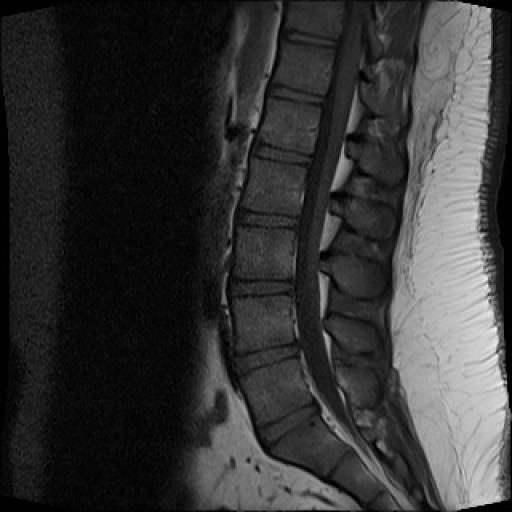L1: (259, 98, 321, 154)
L2: (241, 158, 305, 216)
L3: (233, 227, 294, 280)
L4: (233, 297, 294, 354)
L5: (239, 358, 313, 426)
S1: (269, 415, 345, 478)
